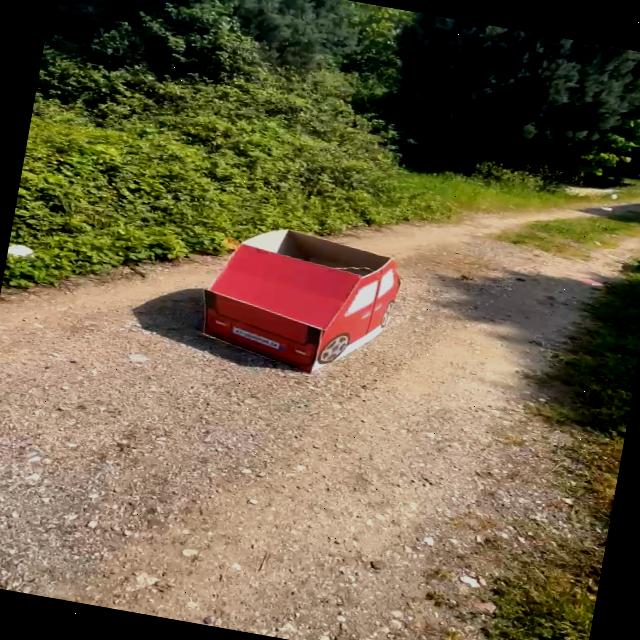red_car: (152, 193, 446, 420)
